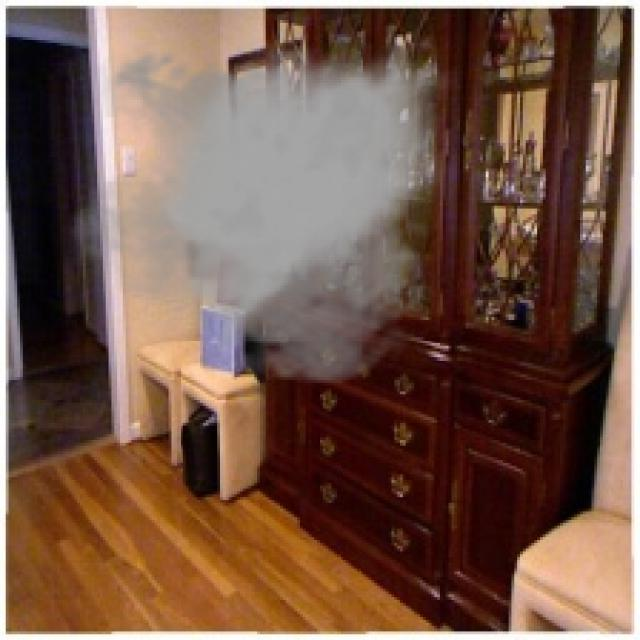smoke: (69, 40, 457, 389)
